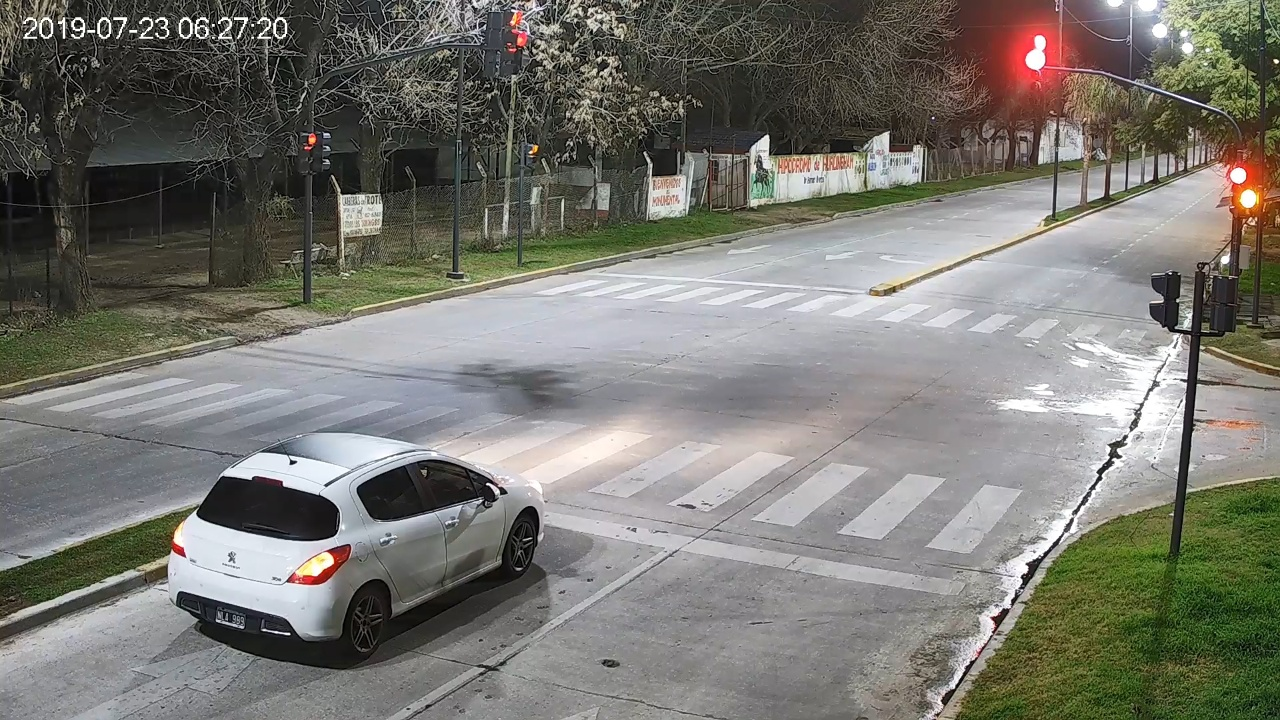car: (167, 432, 546, 656)
traffic light: (1027, 49, 1045, 93)
